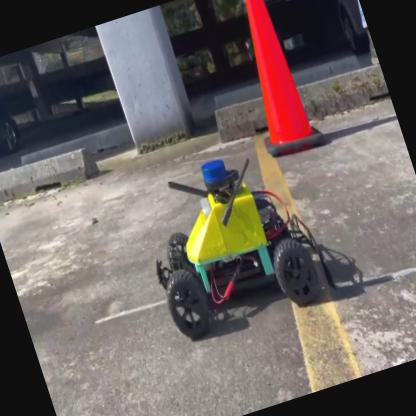cone: (219, 0, 330, 163)
mushr_car: (126, 132, 343, 352)
